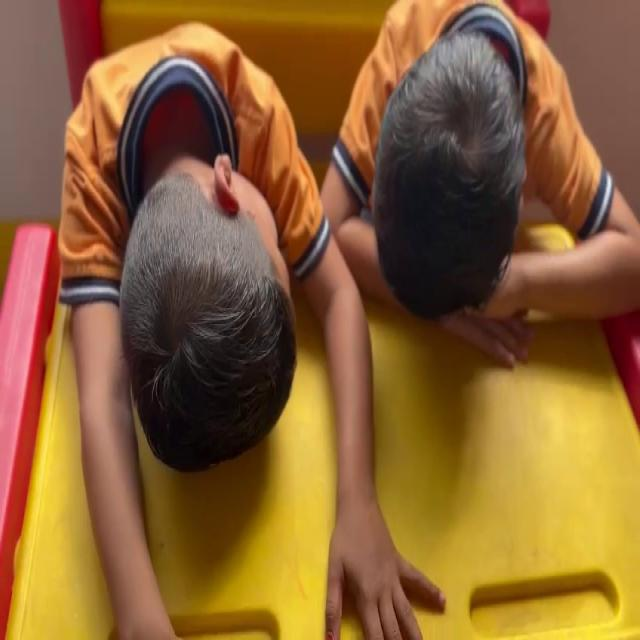child: (46, 29, 319, 624), (344, 42, 626, 349)
